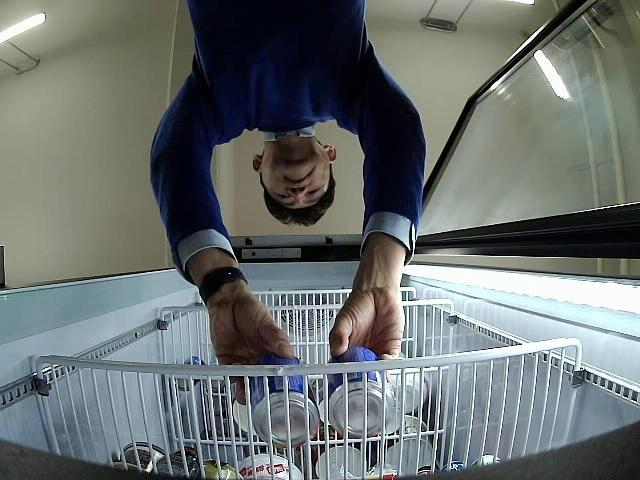13_pocariSweat: (251, 352, 320, 448), (329, 346, 394, 438)
